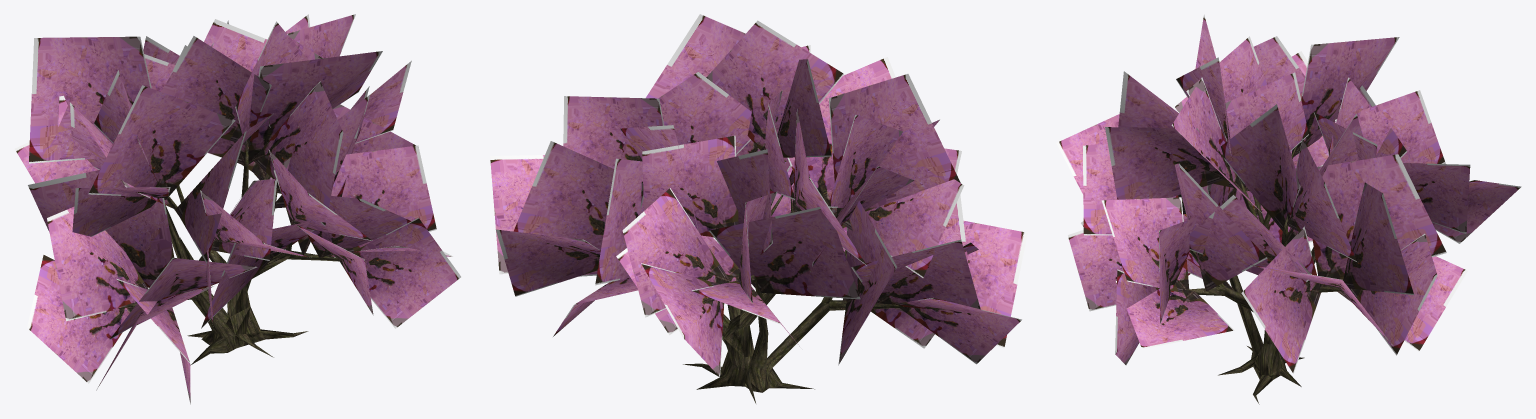
The model's file is Utility_Tree02_LOD2.FBX.
The picture shows the model from 3 angles, left to right: view 1: azimuth 30°, elevation 25°; view 2: azimuth 150°, elevation 25°; view 3: azimuth 270°, elevation 25°; orthographic projection. The views are drawn at different scales.
Visible parts, largest first — view 1: cmc_shu02_02_LOD2, cmc_shu02_01_LOD2; view 2: cmc_shu02_02_LOD2, cmc_shu02_01_LOD2; view 3: cmc_shu02_02_LOD2, cmc_shu02_01_LOD2.
Boxes of the visible parts, x1,y1,x2,y2 form: cmc_shu02_02_LOD2: (15, 14, 460, 404); cmc_shu02_01_LOD2: (123, 140, 339, 365); cmc_shu02_02_LOD2: (490, 14, 1027, 376); cmc_shu02_01_LOD2: (683, 195, 904, 403); cmc_shu02_02_LOD2: (1056, 14, 1521, 373); cmc_shu02_01_LOD2: (1178, 146, 1340, 404).
Size of the model in its own units: 2306 by 1636 by 2139.
Materials: 2 (2 with a texture image).
